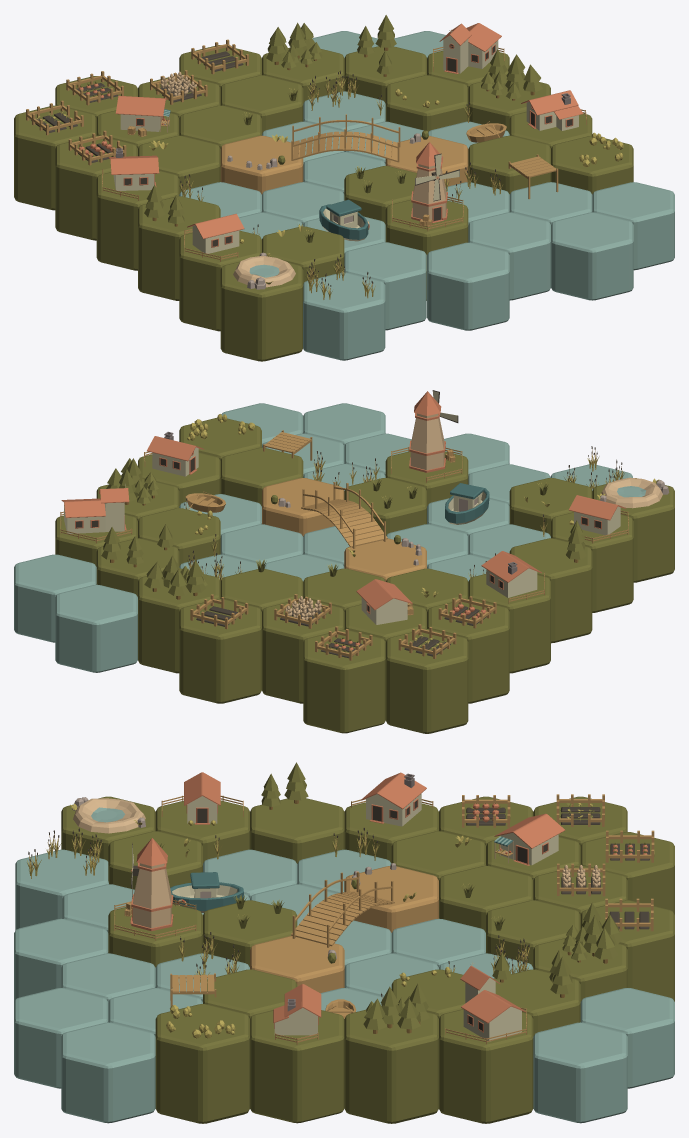
File: HCity.fbx
3 renders of one model, top to bottom at view 1: azimuth 30°, elevation 25°; view 2: azimuth 150°, elevation 25°; view 3: azimuth 270°, elevation 25°, orthographic. The views are drawn at different scales.
Parts seen in each view (by area): view 1: Plane.062, Cube.080, Cylinder.158, Cube.090, Cube.094, Cylinder.164, Cylinder.043, Cube.079, Cube.093, Sphere.029, Cube.092, Sphere.026 (+7 smaller); view 2: Plane.062, Cube.080, Cylinder.158, Cube.090, Cube.093, Cube.079, Cube.094, Sphere.029, Cylinder.043, Cube.092, Sphere.026, Cylinder.164 (+7 smaller); view 3: Plane.062, Cube.080, Cylinder.158, Cube.090, Cube.079, Cube.093, Sphere.029, Cylinder.043, Cylinder.164, Cube.094, Sphere.026, Cube.092 (+8 smaller).
Boxes of the visible parts, box(x1,y1,x2,y2) form: Plane.062: box(14, 31, 674, 361); Cube.080: box(291, 114, 400, 162); Cylinder.158: box(411, 142, 459, 223); Cube.090: box(439, 23, 501, 73); Cube.094: box(521, 90, 583, 130); Cylinder.164: box(481, 49, 542, 100); Cylinder.043: box(266, 22, 322, 70); Cube.079: box(115, 95, 170, 132); Cube.093: box(108, 148, 159, 190); Sphere.029: box(233, 252, 295, 289); Cube.092: box(187, 213, 244, 253); Sphere.026: box(319, 199, 369, 241); Plane.062: box(14, 403, 674, 733); Cube.080: box(301, 482, 387, 548); Cylinder.158: box(409, 390, 458, 472); Cube.090: box(61, 484, 129, 533); Cube.093: box(481, 551, 541, 597); Cube.079: box(356, 579, 412, 624); Cube.094: box(147, 431, 204, 476); Sphere.029: box(597, 477, 669, 508); Cylinder.043: box(144, 555, 207, 599); Cube.092: box(569, 495, 626, 535); Sphere.026: box(445, 483, 489, 524); Cylinder.164: box(106, 458, 159, 505); Plane.062: box(14, 796, 674, 1123); Cube.080: box(291, 872, 394, 947); Cylinder.158: box(130, 838, 173, 931); Cube.090: box(460, 962, 525, 1041); Cube.079: box(494, 813, 565, 865); Cube.093: box(360, 772, 426, 826); Sphere.029: box(70, 797, 145, 833); Cylinder.043: box(562, 902, 621, 963); Cylinder.164: box(363, 983, 429, 1033); Cube.094: box(273, 984, 321, 1035); Sphere.026: box(170, 872, 243, 912); Cube.092: box(184, 772, 220, 824).
Size of the model in its own units: 1095 by 329 by 1212.
